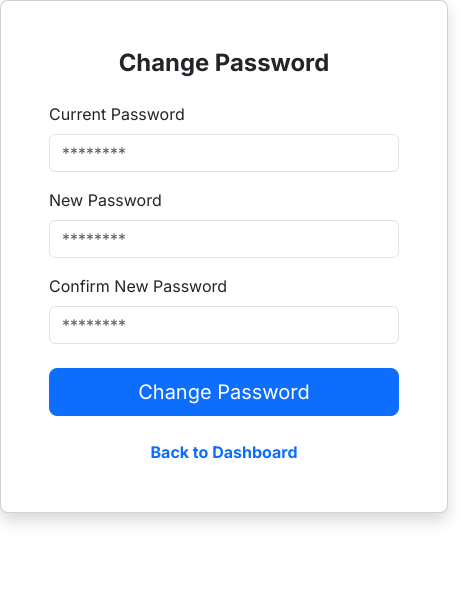
Test: ProfileSettings › shows validation error for new password less than 6 characters
In the password field labelled "Current Password": (224, 153) [49,134,399,172], type "oldpass"
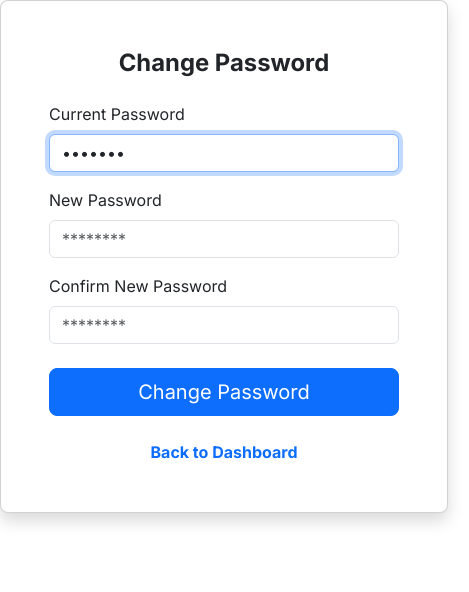
In the password field labelled "New Password": (224, 239) [49,220,399,258], type "short"
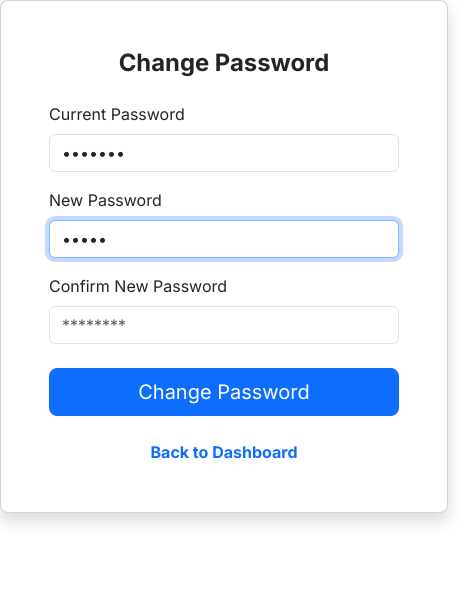
Click the button "Change Password": (224, 392) [49,368,399,416]
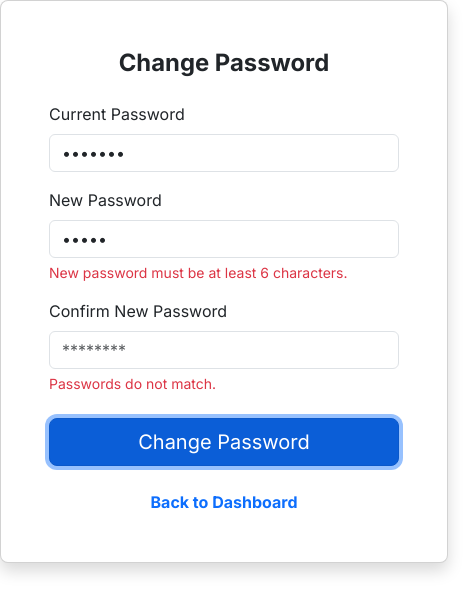
Result: the text "New password must be at least 6 characters." is shown at [49,262,399,283]
